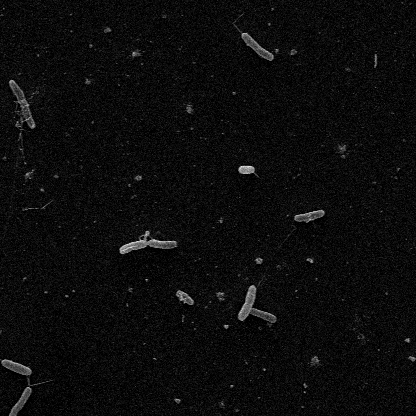cell2cell: (19, 117, 28, 155), (29, 379, 55, 389), (233, 11, 244, 34), (179, 292, 186, 304), (251, 171, 262, 178), (0, 351, 2, 364), (0, 329, 3, 336)
cell2surface: (7, 79, 37, 129), (240, 31, 273, 61), (237, 283, 258, 322), (8, 386, 33, 416), (1, 358, 32, 376), (247, 307, 278, 323), (119, 239, 148, 255), (293, 208, 324, 222), (147, 239, 179, 249), (176, 289, 194, 305), (236, 164, 256, 175)
filament: (137, 233, 155, 241), (24, 374, 32, 391)
